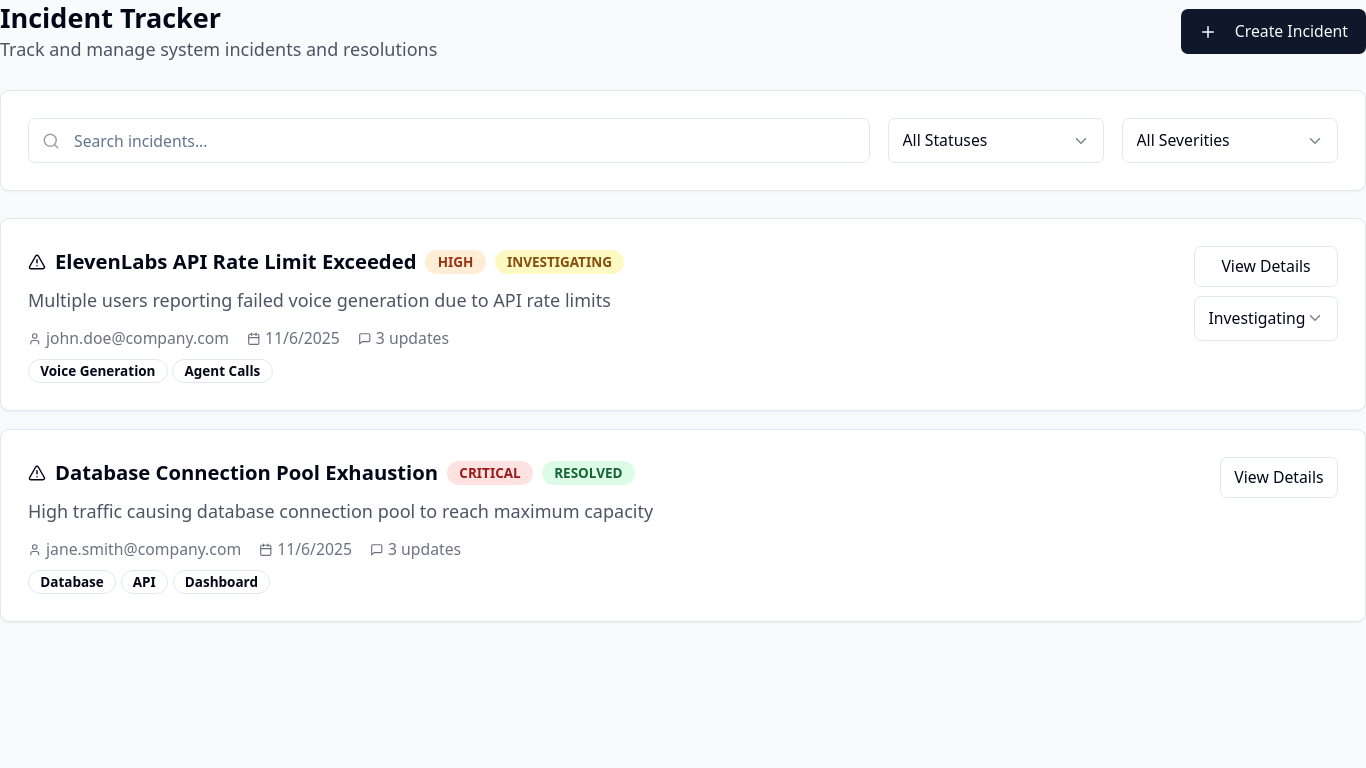
Test: IncidentTracker › opens create incident modal
Click the button "Create Incident" at [1273, 32], box [1181,9,1365,54]
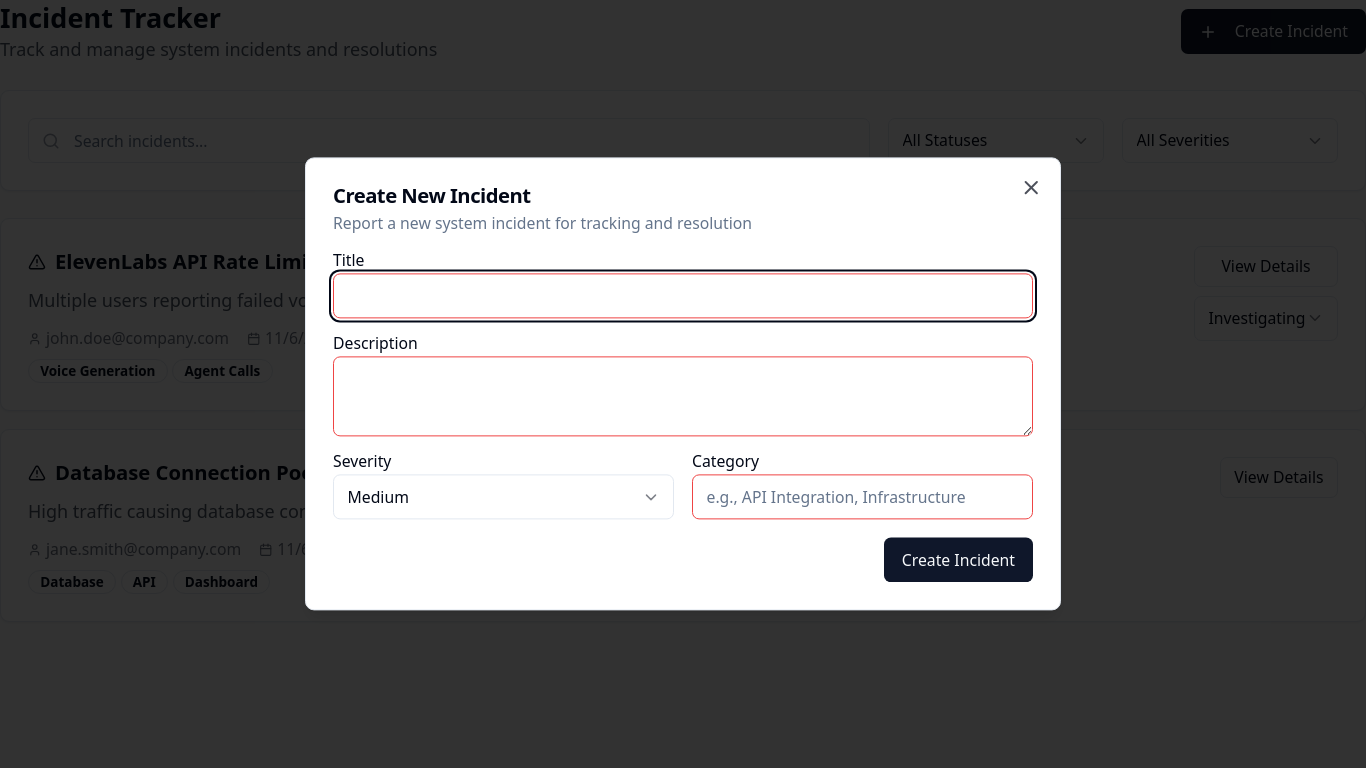
Check: the heading "Create New Incident" is shown, box [333,181,531,209]
Check: the text "Report a new system incident for tracking and resolution" is shown, box [333,212,752,234]
